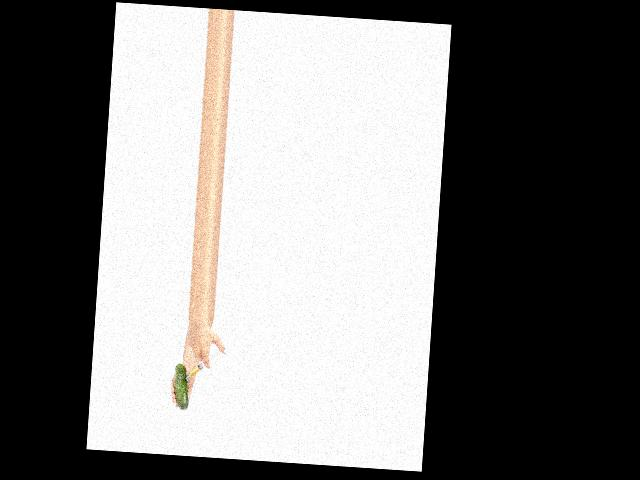cucumber: (172, 363, 190, 411)
